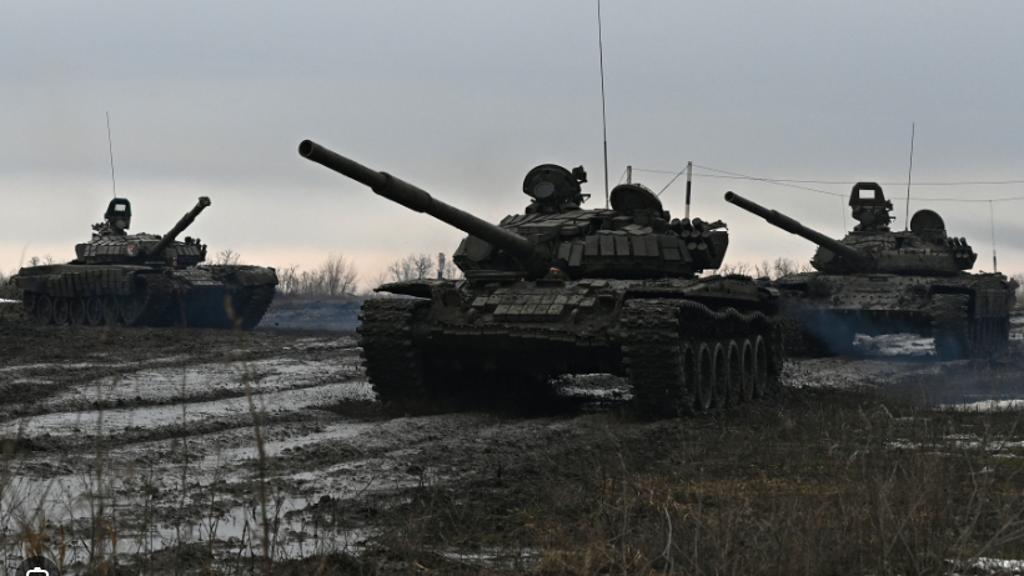TANK: (294, 136, 786, 421), (724, 185, 1016, 357), (9, 192, 285, 328)
